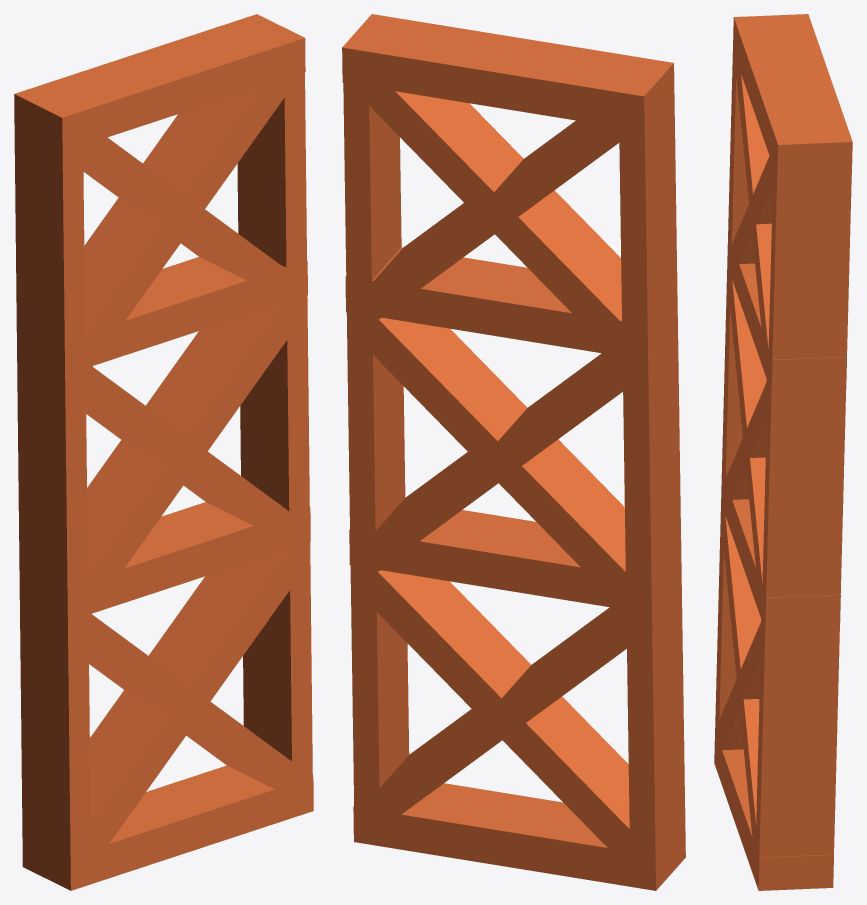
Rendered from Steel_Pier1.fbx.
The picture shows the model from 3 angles, left to right: view 1: azimuth 30°, elevation 25°; view 2: azimuth 150°, elevation 25°; view 3: azimuth 270°, elevation 25°; orthographic projection. The views are drawn at different scales.
Visible parts, largest first — view 1: SUSPENSION_30x10x4.001; view 2: SUSPENSION_30x10x4.001; view 3: SUSPENSION_30x10x4.001.
Boxes of the visible parts, box(x1,y1,x2,y2) form: SUSPENSION_30x10x4.001: box(14, 14, 313, 890); SUSPENSION_30x10x4.001: box(342, 14, 685, 890); SUSPENSION_30x10x4.001: box(714, 14, 852, 890).
Size of the model in its own units: 200 by 531 by 88.83.
